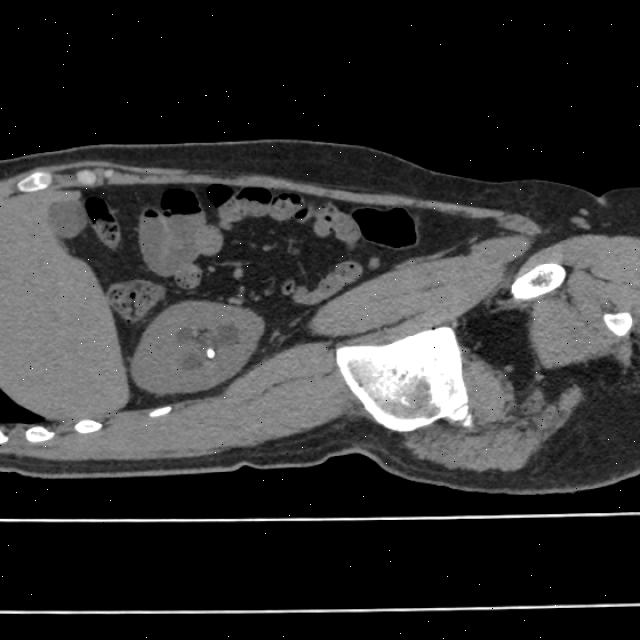kidneystone: (206, 349, 215, 360)
